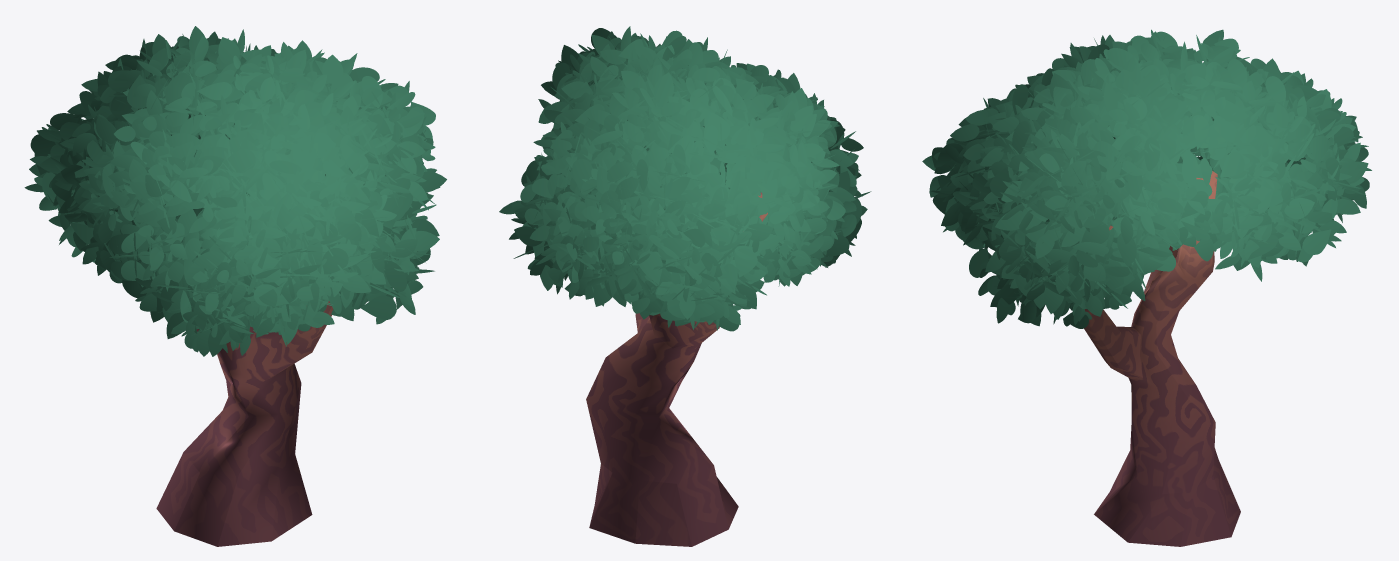
Rendered from tree_3_lod_0.fbx.
The picture shows the model from 3 angles, left to right: view 1: azimuth 30°, elevation 25°; view 2: azimuth 150°, elevation 25°; view 3: azimuth 270°, elevation 25°; orthographic projection. The views are drawn at different scales.
Parts seen in each view (by area): view 1: tree_3_leaves, tree_3; view 2: tree_3_leaves, tree_3; view 3: tree_3_leaves, tree_3.
Boxes of the visible parts, left/top/right/bottom form: tree_3_leaves: left=24, top=26, right=446, bottom=356; tree_3: left=156, top=301, right=333, bottom=546; tree_3_leaves: left=499, top=26, right=871, bottom=331; tree_3: left=586, top=192, right=767, bottom=546; tree_3_leaves: left=922, top=29, right=1371, bottom=328; tree_3: left=1084, top=171, right=1240, bottom=546.
Bounding box in the file's own units: 851 × 1193 × 1049.
